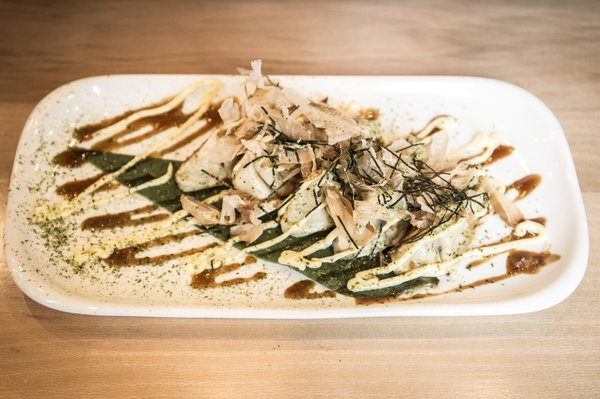curry: (1, 2, 597, 396)
sandwich: (8, 57, 595, 305)
